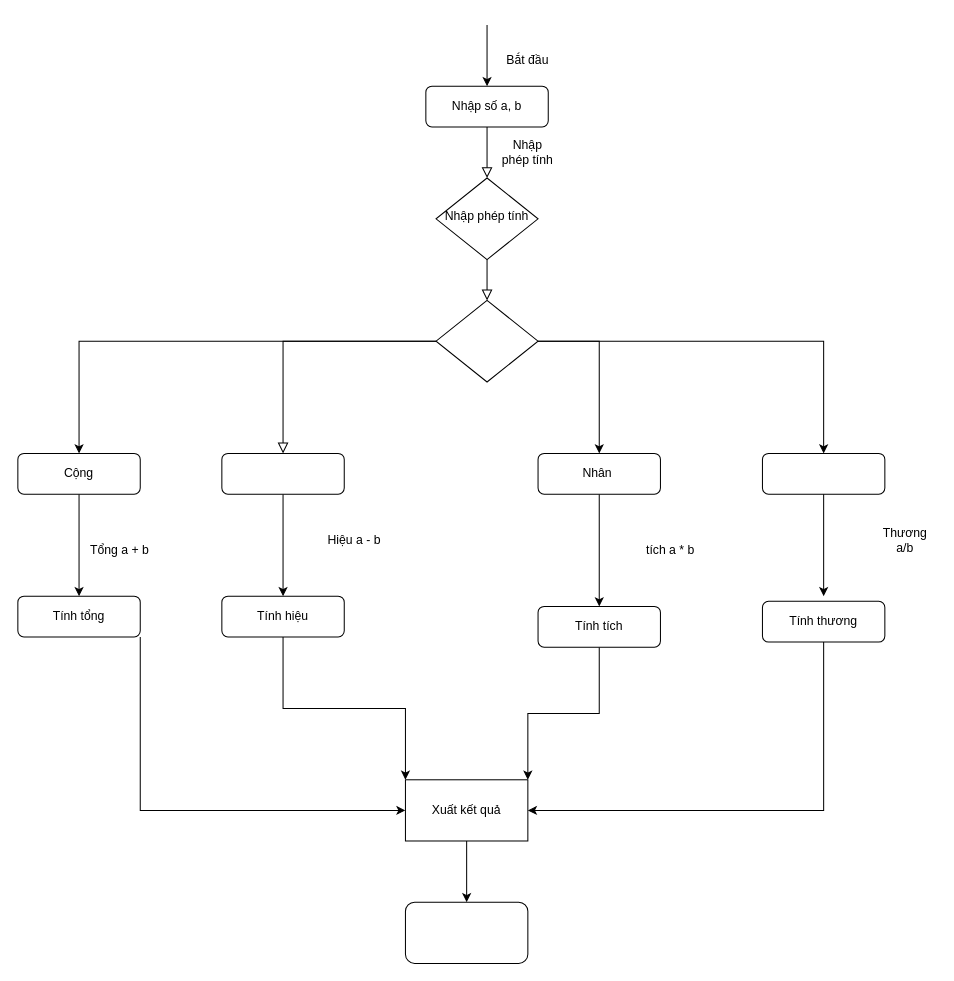
Image size: 954x981. Some labels were removed from this diagram. The shapes that lost their labels are listed below. From the top down, each one's centre as x and y in pixels, then its label:
At [486,340]: "Chọn phép tính".
At [282,473]: "Trừ".
At [823,473]: "Chia".
At [466,932]: "Kết thúc chương trình".
